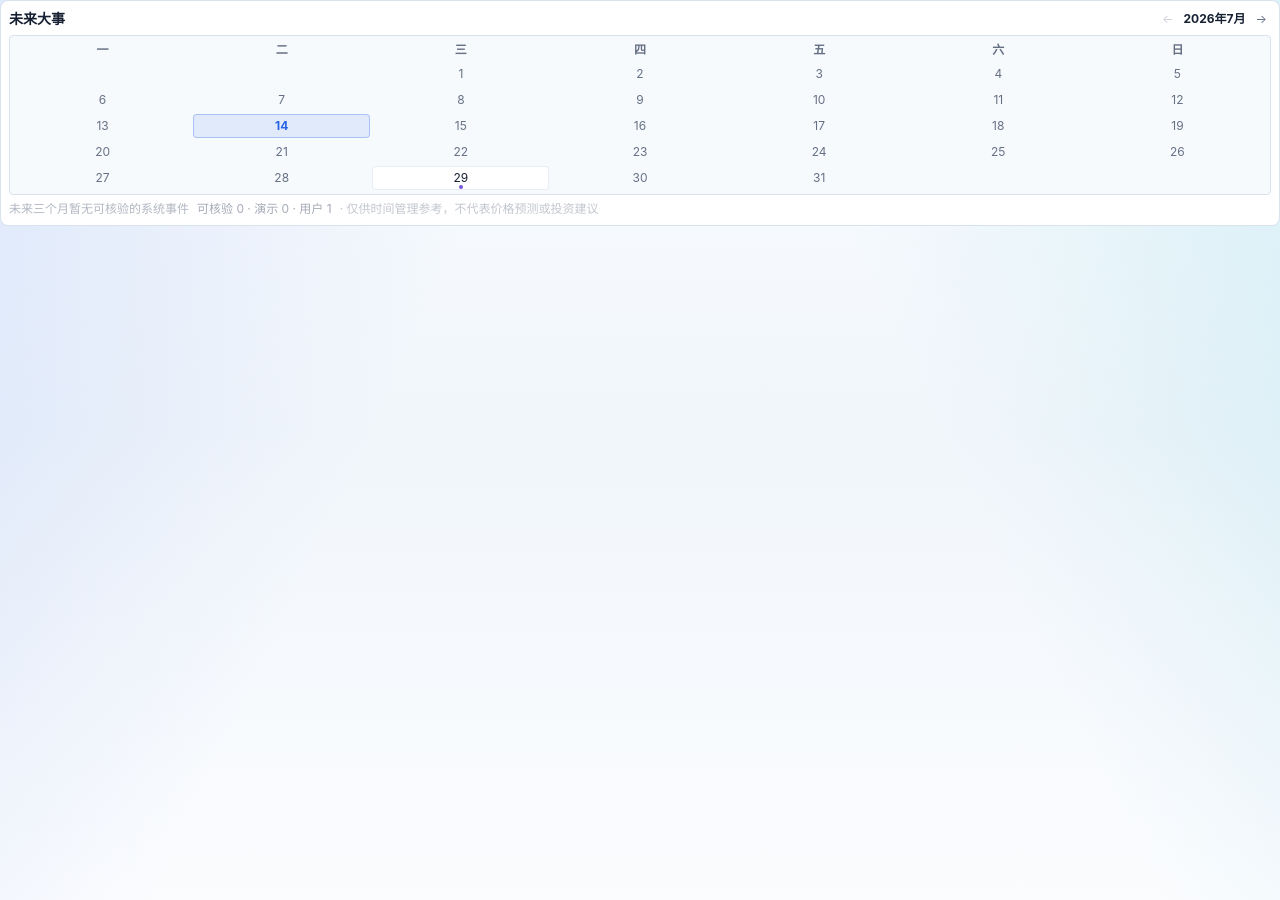
Test: 第十六阶段里程碑二：日历组件渲染 › 点击日期格子显示该日期事件
Expected: the element with test id "calendar-grid" is shown, x1=9 y1=35 x2=1271 y2=195
Step 1. Click the button "29" → (461, 178), box x1=372 y1=166 x2=549 y2=190
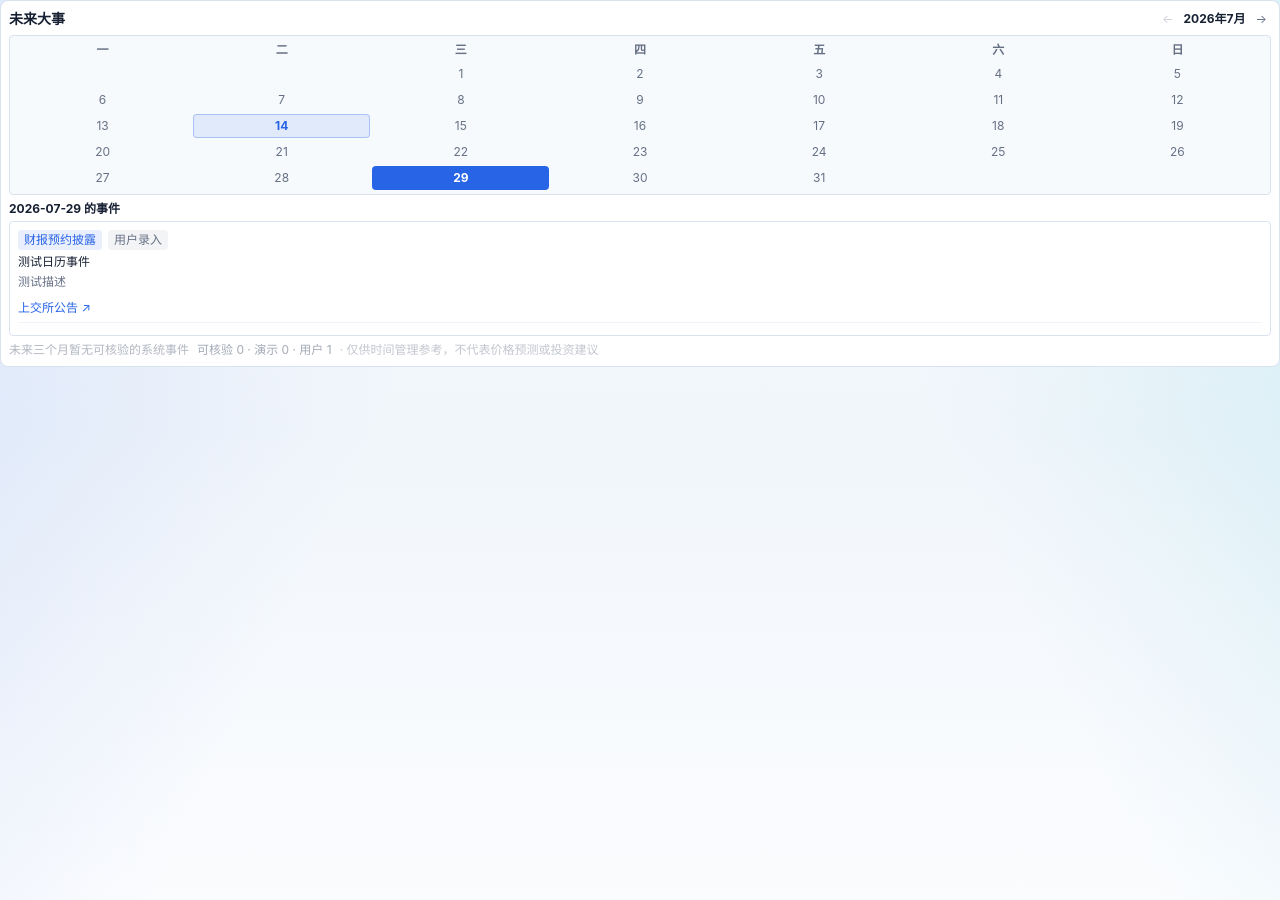
Now the element with test id "selected-date-events" is shown, box x1=9 y1=201 x2=1271 y2=336
Now the text "测试日历事件" is shown, box x1=18 y1=254 x2=90 y2=269
